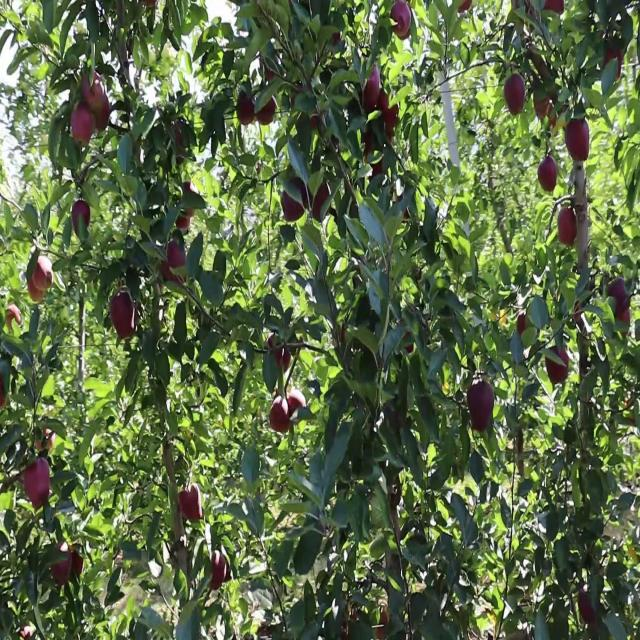apple: (292, 78, 321, 132), (24, 462, 52, 512), (468, 383, 496, 427), (112, 291, 137, 340), (284, 177, 308, 224), (52, 540, 75, 588), (360, 63, 382, 112), (28, 263, 53, 306), (180, 177, 201, 228), (568, 120, 592, 164), (364, 127, 384, 178), (180, 483, 204, 524), (268, 334, 292, 375), (72, 106, 94, 149), (392, 0, 413, 43), (504, 78, 527, 117), (380, 92, 400, 135), (84, 71, 106, 110), (548, 348, 571, 384), (268, 398, 291, 434), (560, 206, 579, 249), (608, 277, 630, 311), (312, 184, 331, 222), (236, 92, 256, 128), (540, 156, 558, 194), (72, 199, 92, 233), (92, 99, 112, 133), (168, 241, 188, 274), (384, 99, 400, 140), (260, 92, 277, 128), (212, 554, 228, 592), (604, 49, 624, 78), (580, 590, 596, 626), (36, 426, 56, 453), (260, 56, 279, 84), (548, 99, 566, 128), (176, 206, 195, 233), (536, 92, 551, 121), (548, 99, 563, 128), (288, 391, 305, 416), (376, 611, 391, 638), (616, 305, 632, 327), (176, 213, 193, 233), (8, 305, 22, 329), (544, 0, 565, 16), (516, 312, 528, 336), (0, 376, 8, 411), (176, 120, 185, 151), (404, 334, 416, 356), (572, 305, 584, 327), (380, 611, 391, 628), (20, 625, 32, 639), (380, 611, 391, 626), (332, 35, 342, 48)
